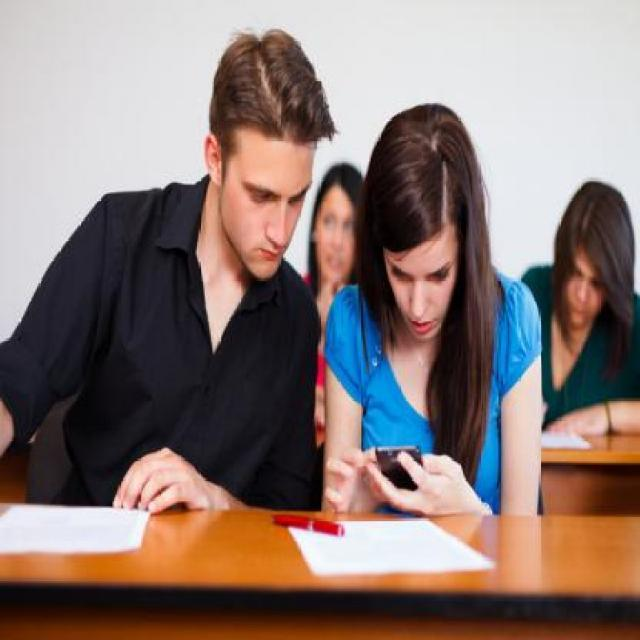cheating: (310, 89, 556, 531), (77, 23, 345, 326)
